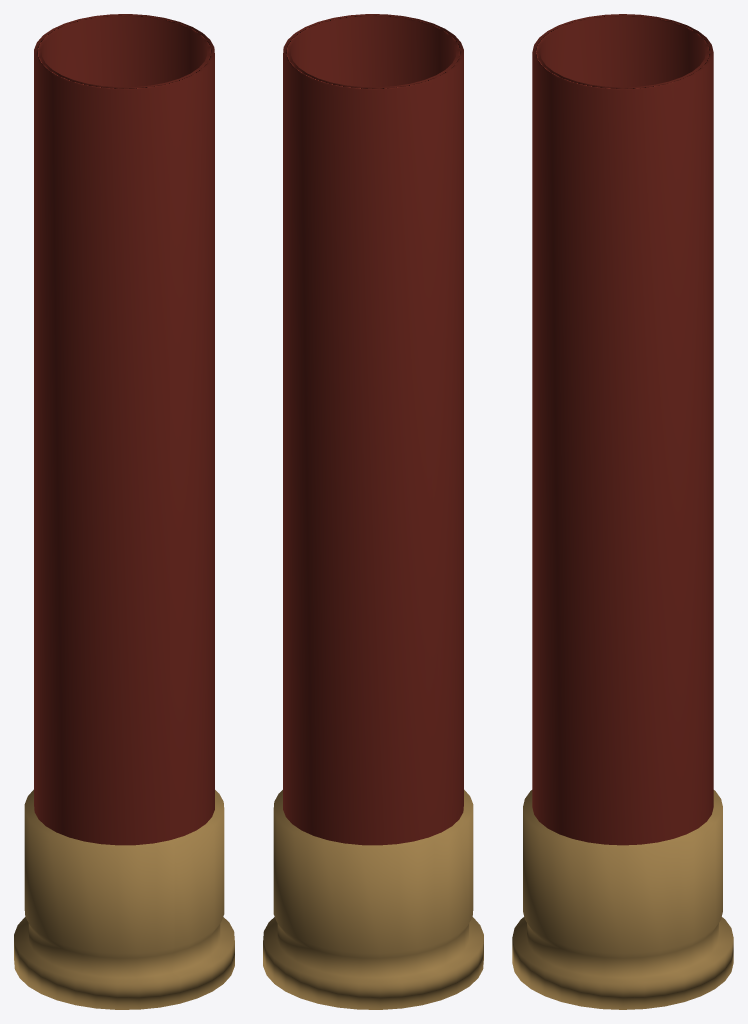
Rendered from spent12g.glb.
3 views of the same model, side by side, from view 1: azimuth 30°, elevation 25°; view 2: azimuth 150°, elevation 25°; view 3: azimuth 270°, elevation 25° (orthographic).
Parts seen in each view (by area): view 1: spent12g; view 2: spent12g; view 3: spent12g.
Boxes of the visible parts, x1,y1,x2,y2 form: spent12g: [14, 14, 234, 1009]; spent12g: [263, 14, 483, 1009]; spent12g: [512, 14, 733, 1009].
Size of the model in its own units: 0.0099 by 0.045 by 0.0099.
